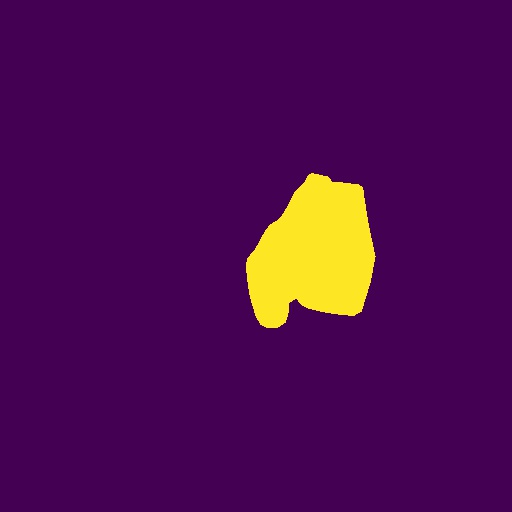Gliomia_tumour: (246, 173, 376, 328)
